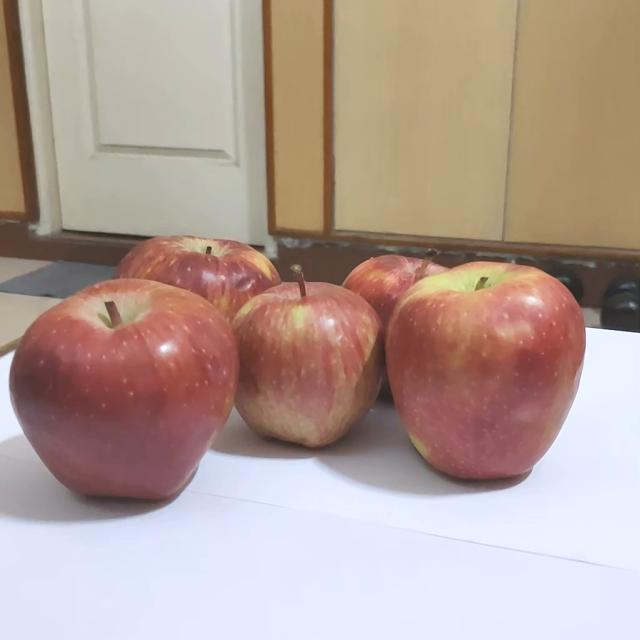apple: (17, 293, 249, 541), (69, 247, 264, 434), (412, 285, 598, 479), (252, 305, 418, 471), (298, 245, 441, 381)
